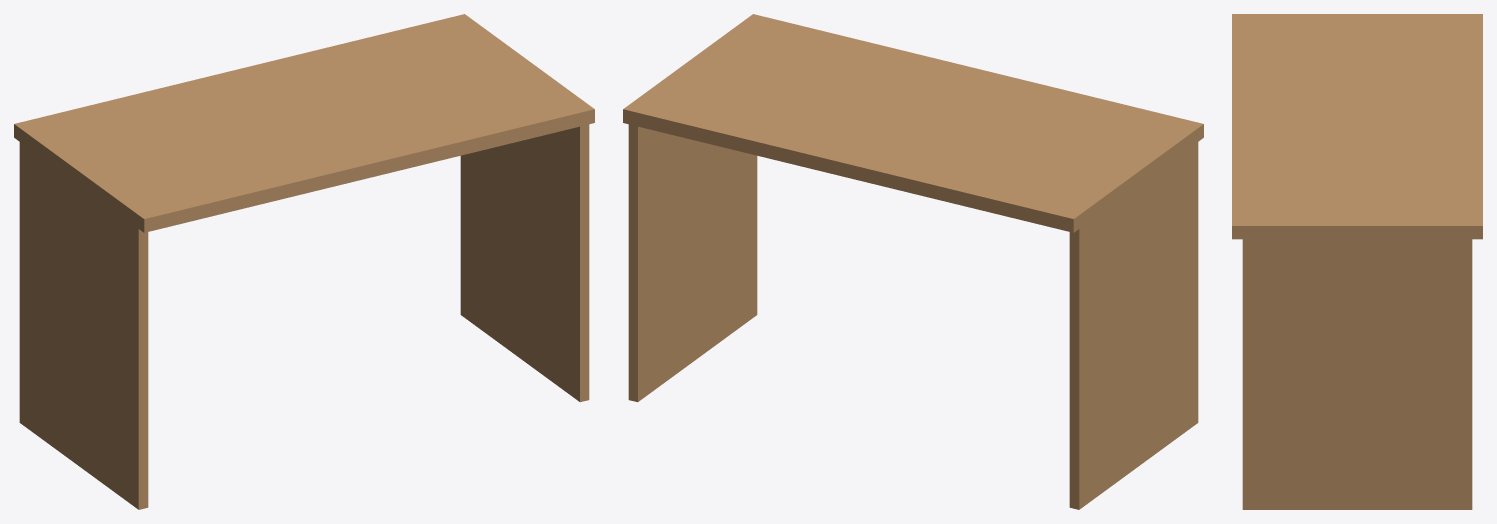
The model's file is computertable-lite.glb.
3 views of the same model, side by side, from view 1: azimuth 30°, elevation 25°; view 2: azimuth 150°, elevation 25°; view 3: azimuth 270°, elevation 25° (orthographic). The views are drawn at different scales.
Parts seen in each view (by area): view 1: material-0-top, material-1-body; view 2: material-0-top, material-1-body; view 3: material-1-body, material-0-top.
Boxes of the visible parts, x1,y1,x2,y2 form: material-0-top: [14, 14, 594, 232]; material-1-body: [19, 124, 589, 509]; material-0-top: [623, 14, 1203, 232]; material-1-body: [628, 124, 1198, 509]; material-1-body: [1242, 239, 1472, 509]; material-0-top: [1232, 14, 1482, 239].
Bounding box in the file's own units: 1.2 × 0.75 × 0.6.
